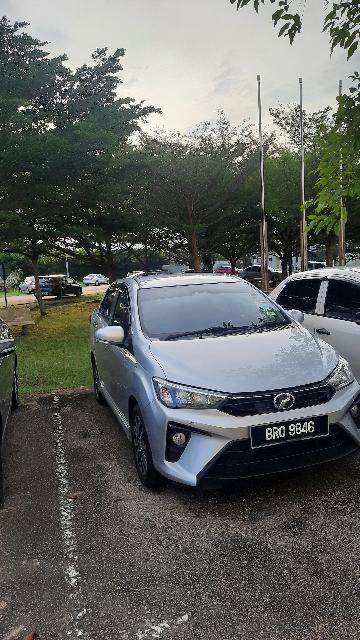License_Plate: (240, 410, 337, 448)
car: (86, 269, 360, 495)
